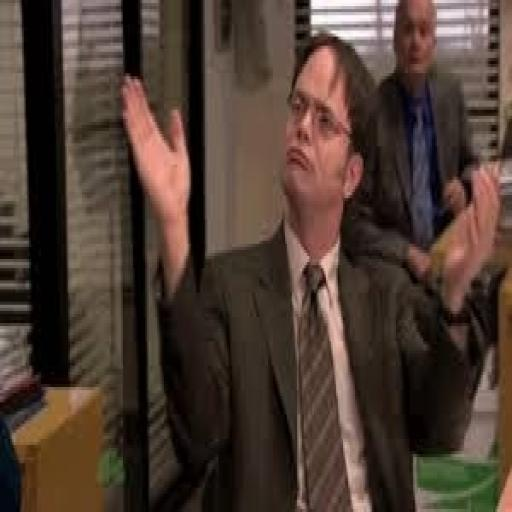clapping: (118, 21, 502, 506)
